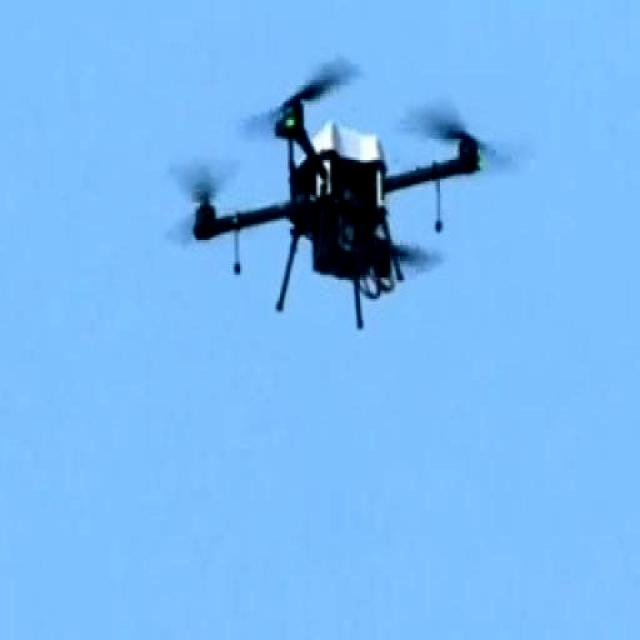bird: (142, 41, 536, 342)
